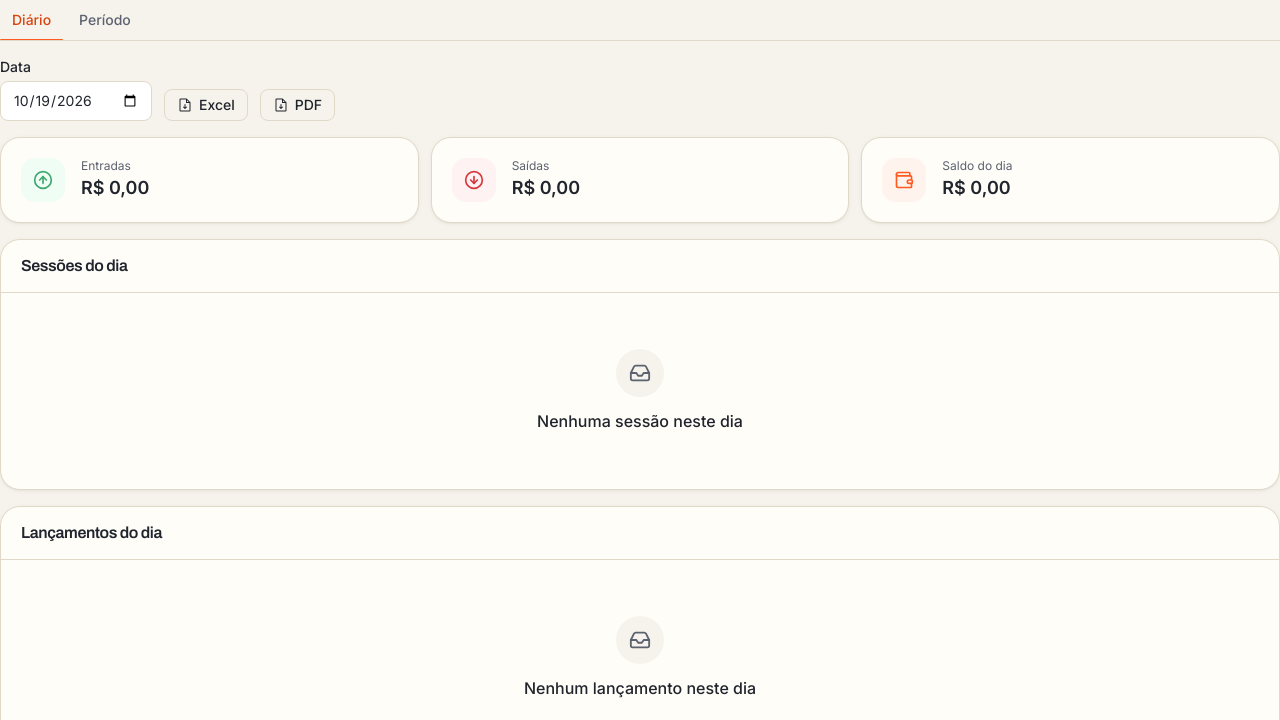
Scenario: CaixaRelatoriosTab › switches to the período sub-tab and shows peak days
This screenshot has width=1280, height=720.
Click the button "Período": (105, 20) [67,0,143,40]
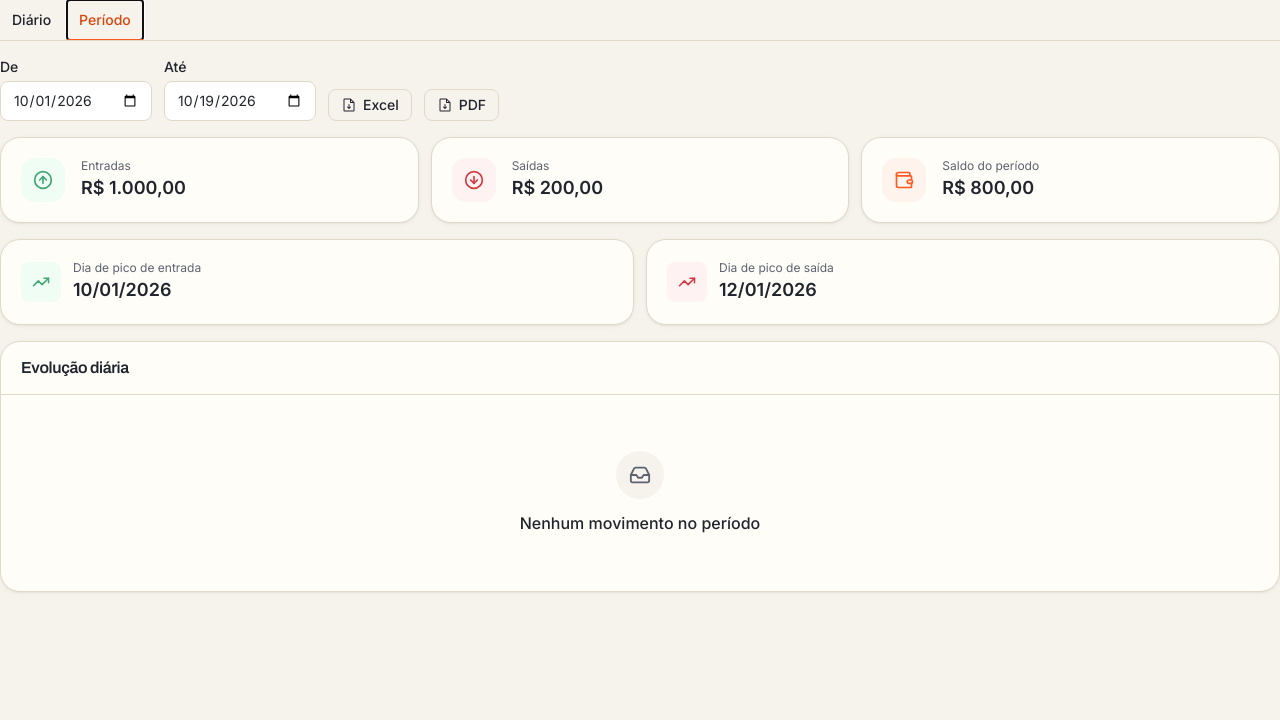
Result: the text "R$ 800,00" is shown at [942,177,1034,198]
Result: the text "10/01/2026" is shown at [73,279,171,300]
